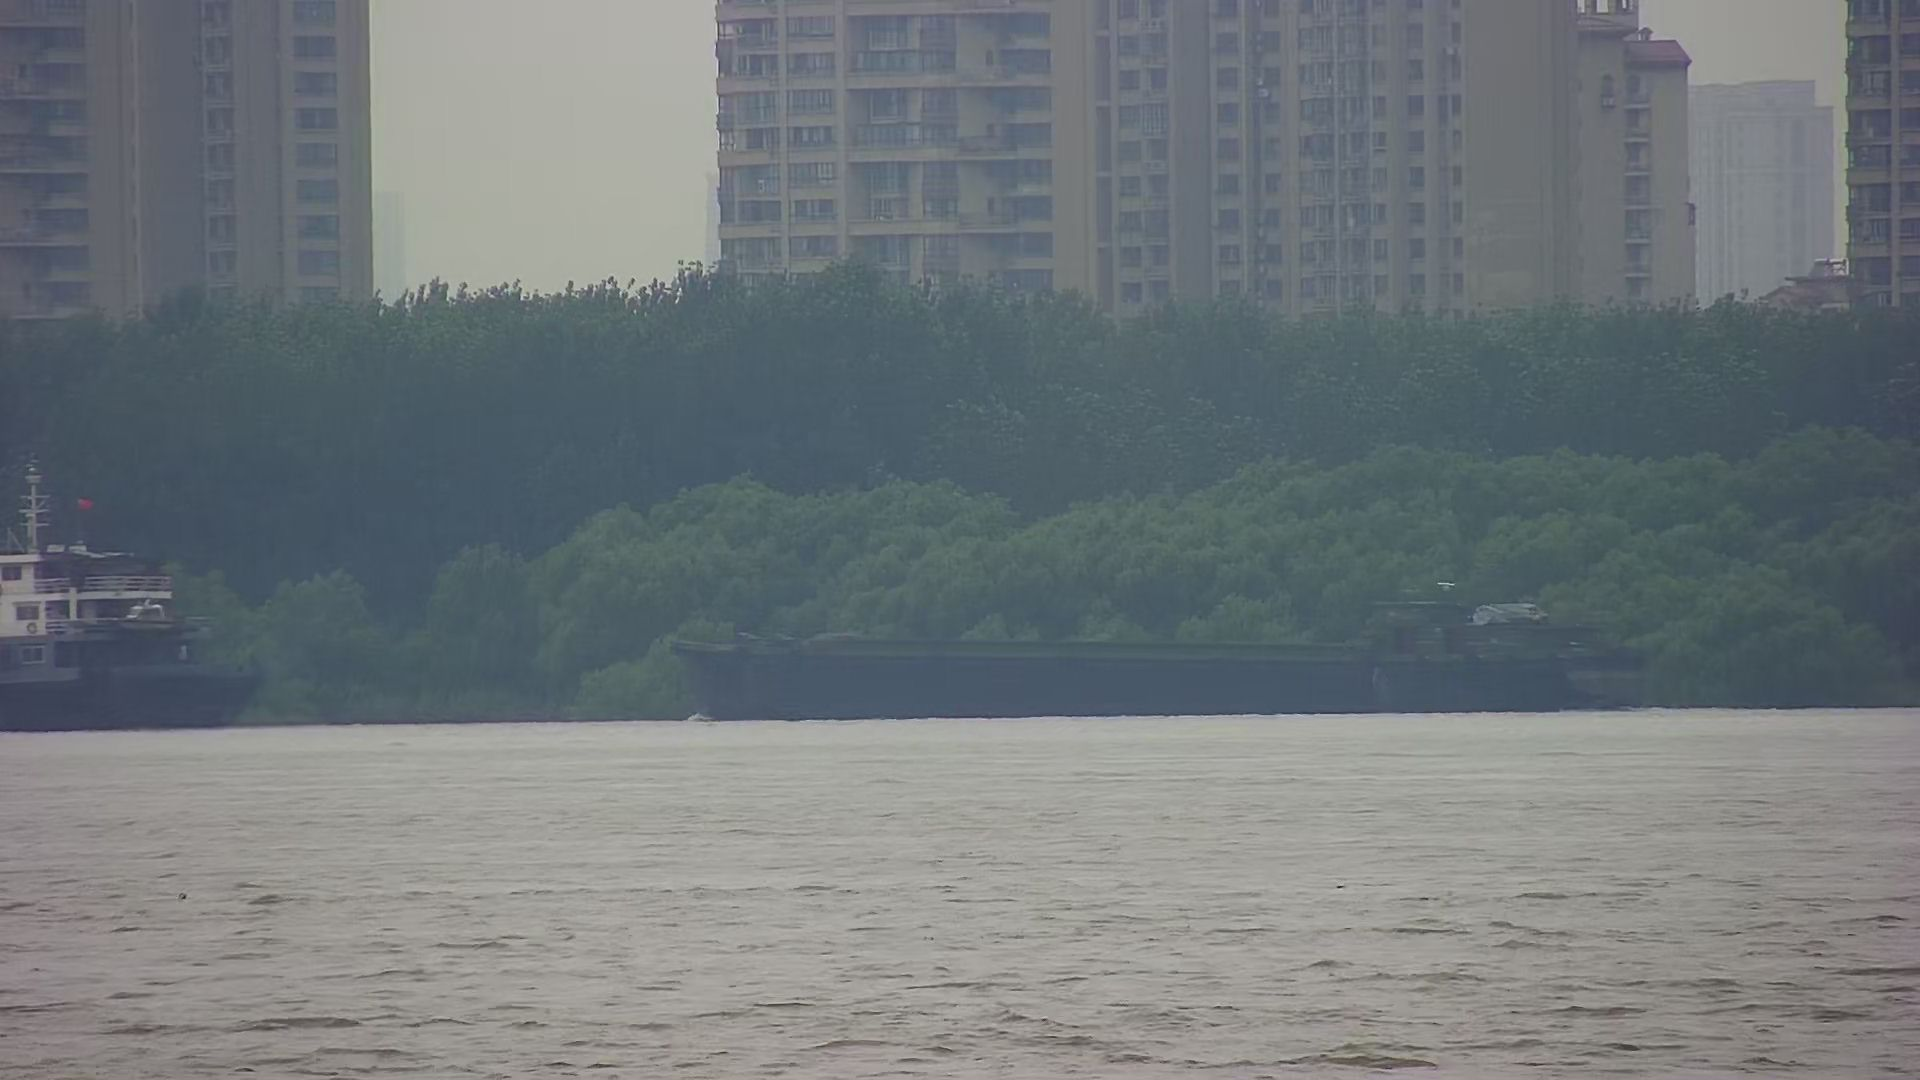ship: (674, 582, 1633, 717), (1, 452, 255, 733)
